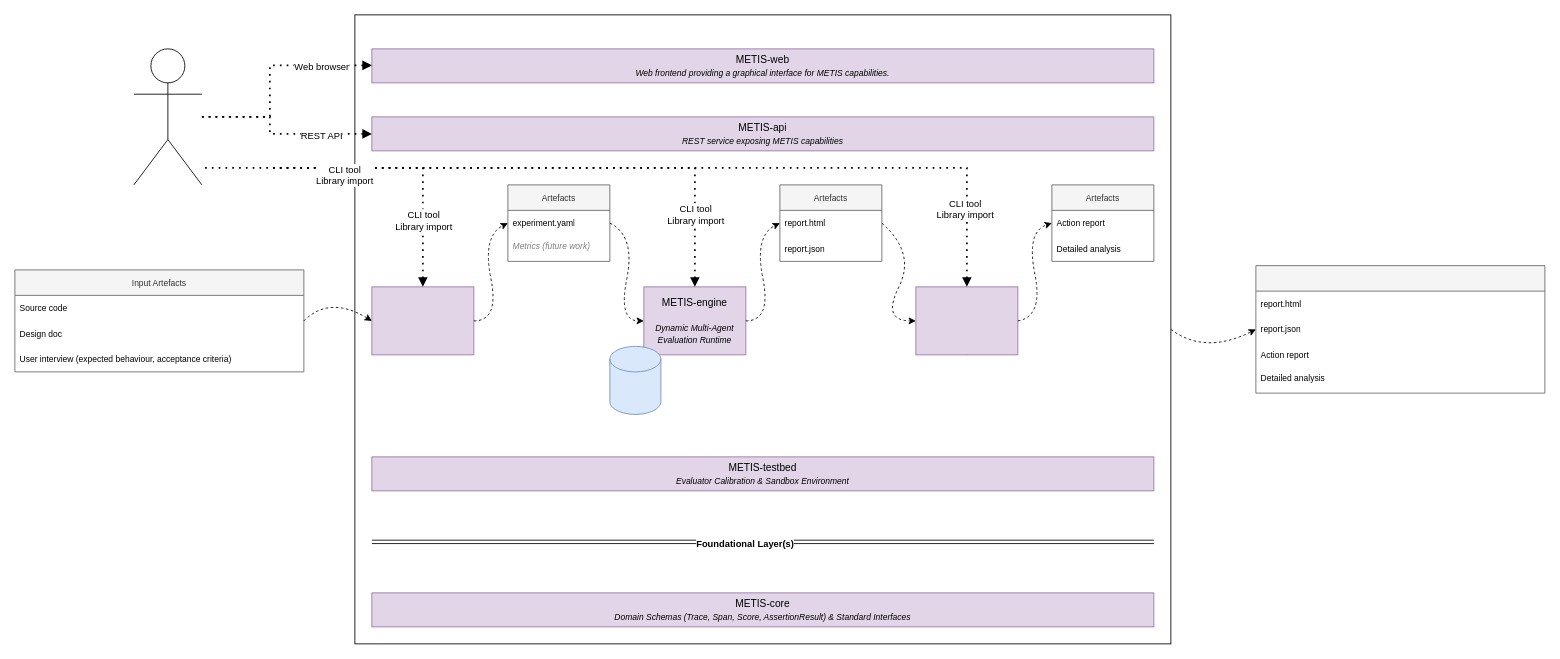
Image size: 1560x659. Some labels were removed from this diagram. The shapes that lost their labels are listed below. From the top down, each one's box as (x1, y1, x2, y2) in pixels, then its label:
(133, 48, 202, 185): User
(371, 286, 474, 355): METIS-wizard Automated Spec & Evaluation Config Generator
(915, 286, 1018, 355): METIS-insights Trajectory Diagnostics & Compliance Analytics Dashboard
(1255, 265, 1545, 393): Output Artefacts
(609, 346, 661, 414): Metrics library
